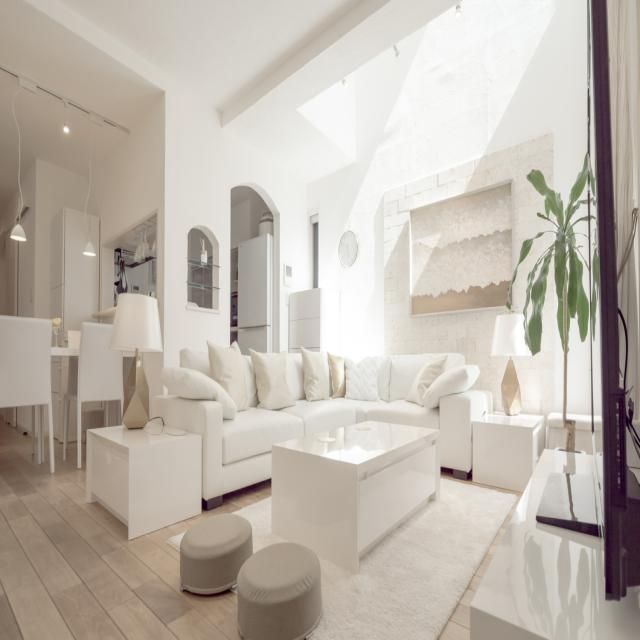white chair: (0, 299, 60, 484), (74, 308, 125, 465)
white desk: (256, 408, 442, 568)
